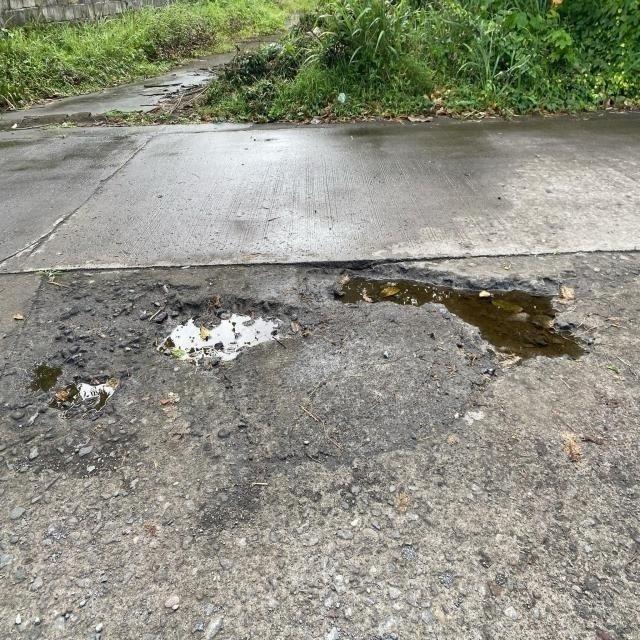pothole: (330, 238, 622, 408), (140, 274, 312, 388), (19, 346, 119, 434)
